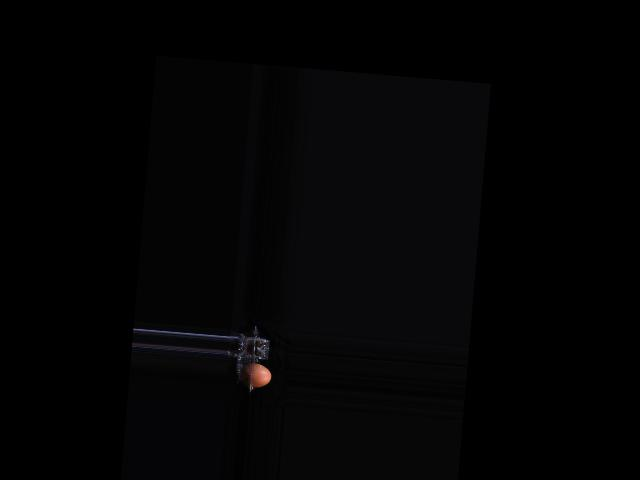egg: (238, 363, 271, 389)
